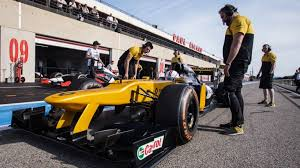f1_car: (6, 58, 235, 168)
